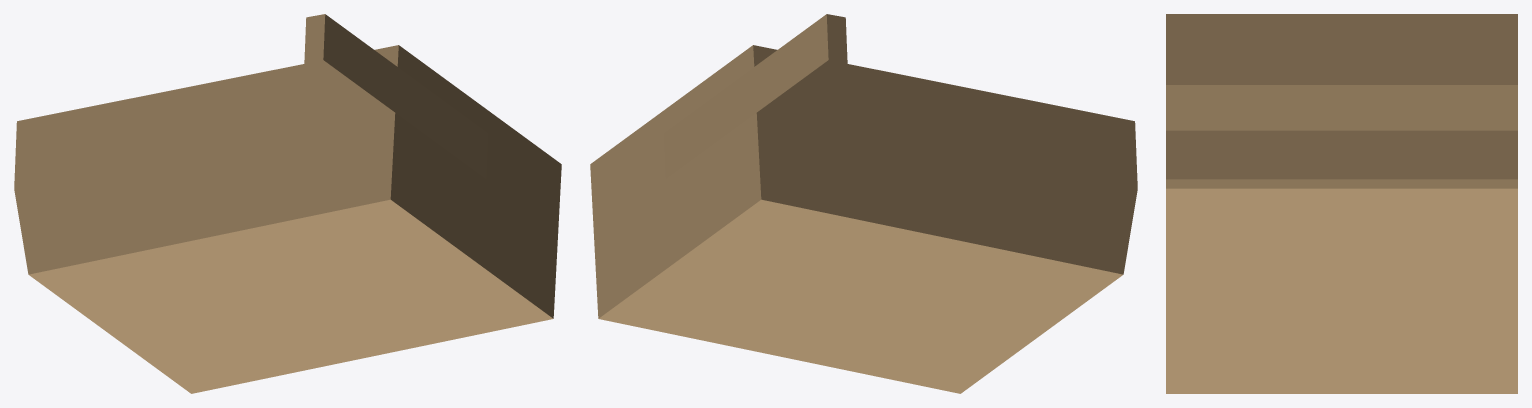
3 views of the same model, side by side, from view 1: azimuth 30°, elevation 25°; view 2: azimuth 150°, elevation 25°; view 3: azimuth 270°, elevation 25° (orthographic). The views are drawn at different scales.
Visible parts, largest first — view 1: 0_3_2_0_0_1_1_2_2; view 2: 0_3_2_0_0_1_1_2_2; view 3: 0_3_2_0_0_1_1_2_2.
Part boxes in pixels (x1,y1,x2,y2): 0_3_2_0_0_1_1_2_2: (14,14,561,393); 0_3_2_0_0_1_1_2_2: (590,14,1137,393); 0_3_2_0_0_1_1_2_2: (1166,14,1517,393).
Size of the model in its own units: 36.78 by 18.54 by 27.
